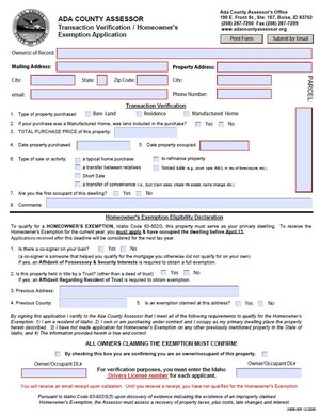checkbox: (71, 179, 82, 189), (73, 170, 83, 180), (151, 163, 161, 172), (193, 119, 203, 128), (96, 245, 106, 253), (151, 155, 161, 163), (134, 110, 144, 118), (182, 268, 191, 276), (119, 244, 127, 253), (182, 110, 191, 118), (261, 351, 271, 358), (257, 299, 265, 307), (74, 163, 82, 171), (134, 190, 143, 197), (217, 121, 226, 128), (54, 350, 62, 357), (159, 268, 166, 276), (84, 110, 92, 117), (112, 190, 119, 197), (74, 157, 81, 164), (235, 300, 242, 306)
textbox: (43, 196, 316, 211), (54, 46, 315, 61), (58, 285, 241, 298), (28, 87, 169, 102), (293, 106, 316, 195), (52, 59, 171, 74), (215, 61, 314, 74), (235, 365, 304, 380), (113, 125, 179, 140), (215, 86, 273, 101), (57, 297, 129, 309), (19, 367, 89, 379), (75, 139, 132, 153), (197, 140, 252, 153), (215, 74, 273, 86), (28, 74, 77, 87), (134, 74, 171, 87), (96, 74, 109, 86)
